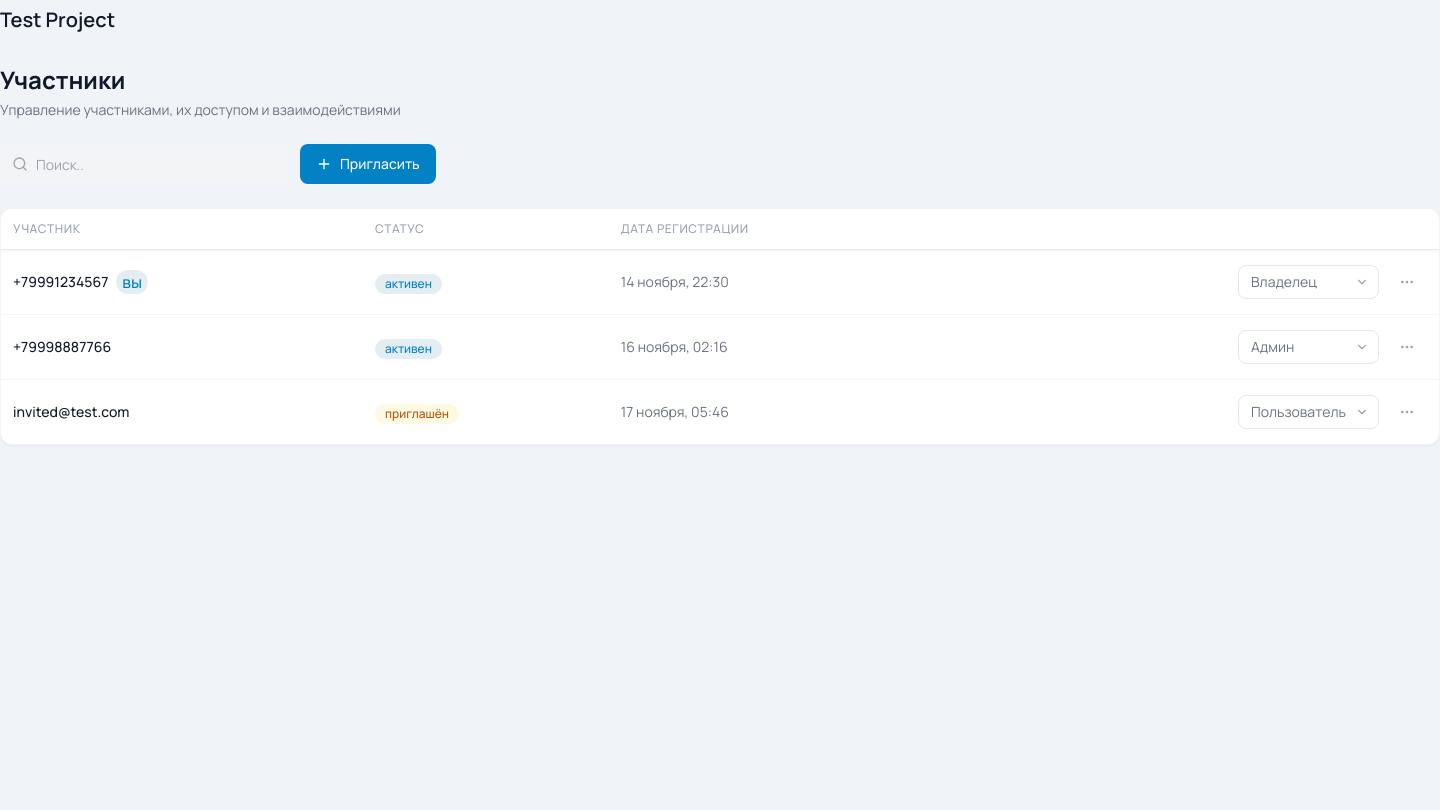
Scenario: Members › opens invite modal when invite button clicked
Click the button "Пригласить". click: (368, 164)
box: [300,144,436,184]
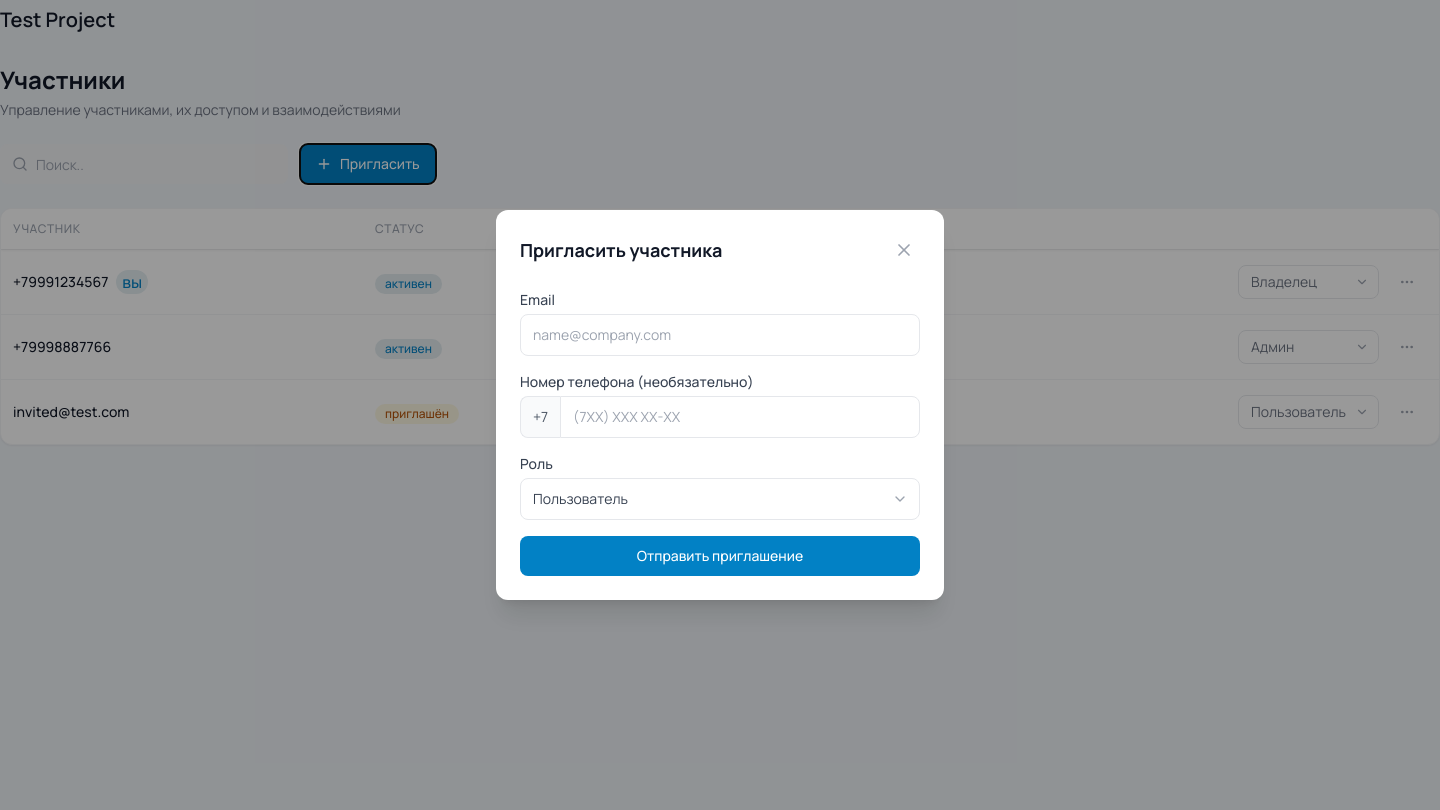
Expected: the heading "Пригласить участника" is shown, [520,236,722,264]
Expected: the button "Отправить приглашение" is shown, [520,536,920,576]
